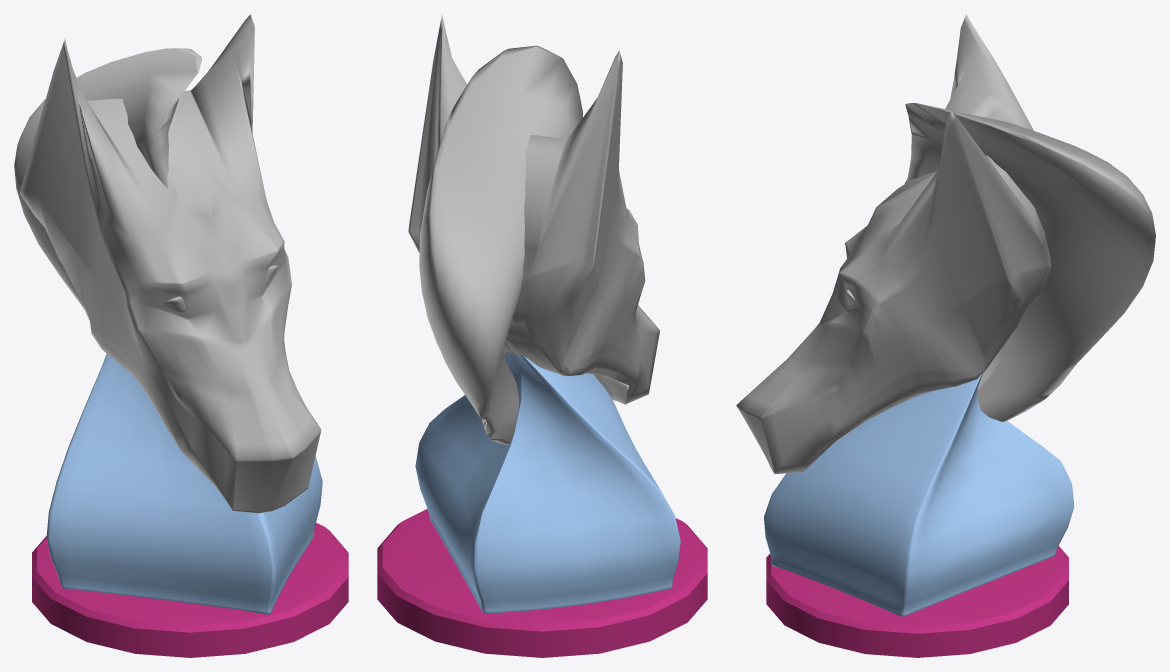
The model's file is knight.glb.
The picture shows the model from 3 angles, left to right: view 1: azimuth 30°, elevation 25°; view 2: azimuth 150°, elevation 25°; view 3: azimuth 270°, elevation 25°; orthographic projection. The views are drawn at different scales.
Parts seen in each view (by area): view 1: Box029, Cylinder024; view 2: Box029, Cylinder024; view 3: Box029, Cylinder024.
Part boxes in pixels (left/top/right/bottom): Box029: left=14, top=14, right=322, bottom=614; Cylinder024: left=32, top=522, right=348, bottom=657; Box029: left=408, top=14, right=680, bottom=613; Cylinder024: left=377, top=509, right=707, bottom=657; Box029: left=736, top=14, right=1155, bottom=616; Cylinder024: left=766, top=546, right=1068, bottom=657.
Size of the model in its own units: 0.0377 by 0.072 by 0.0514.
